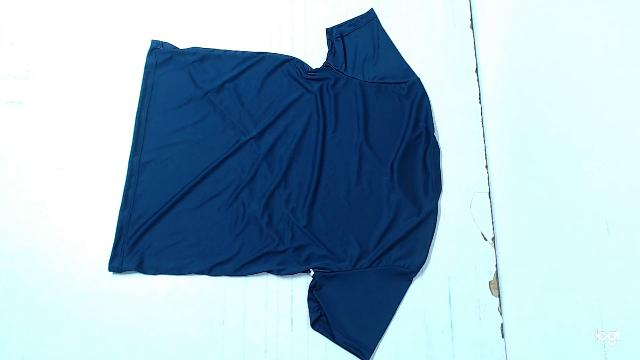new-garment: (109, 9, 441, 360)
